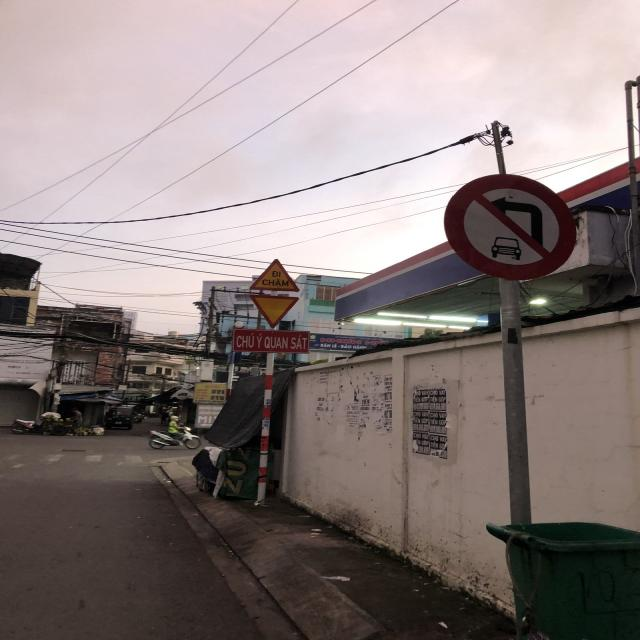Bien bao cam xe o to re trai: (435, 169, 582, 284)
Bien bao di cham: (246, 257, 307, 295)
Bien bao giao nhau voi duong uu tien: (244, 291, 306, 330)
